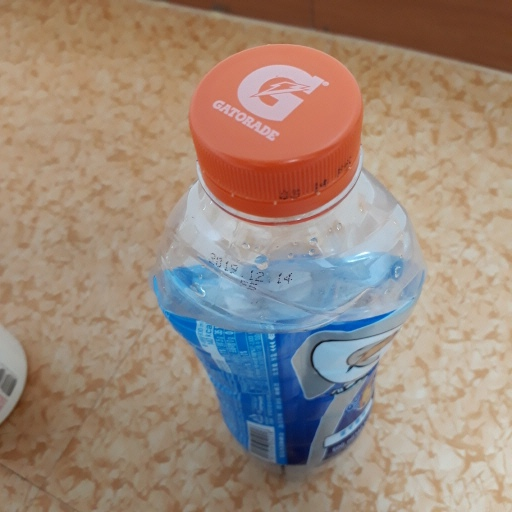Plastic_0: (152, 42, 426, 482)
